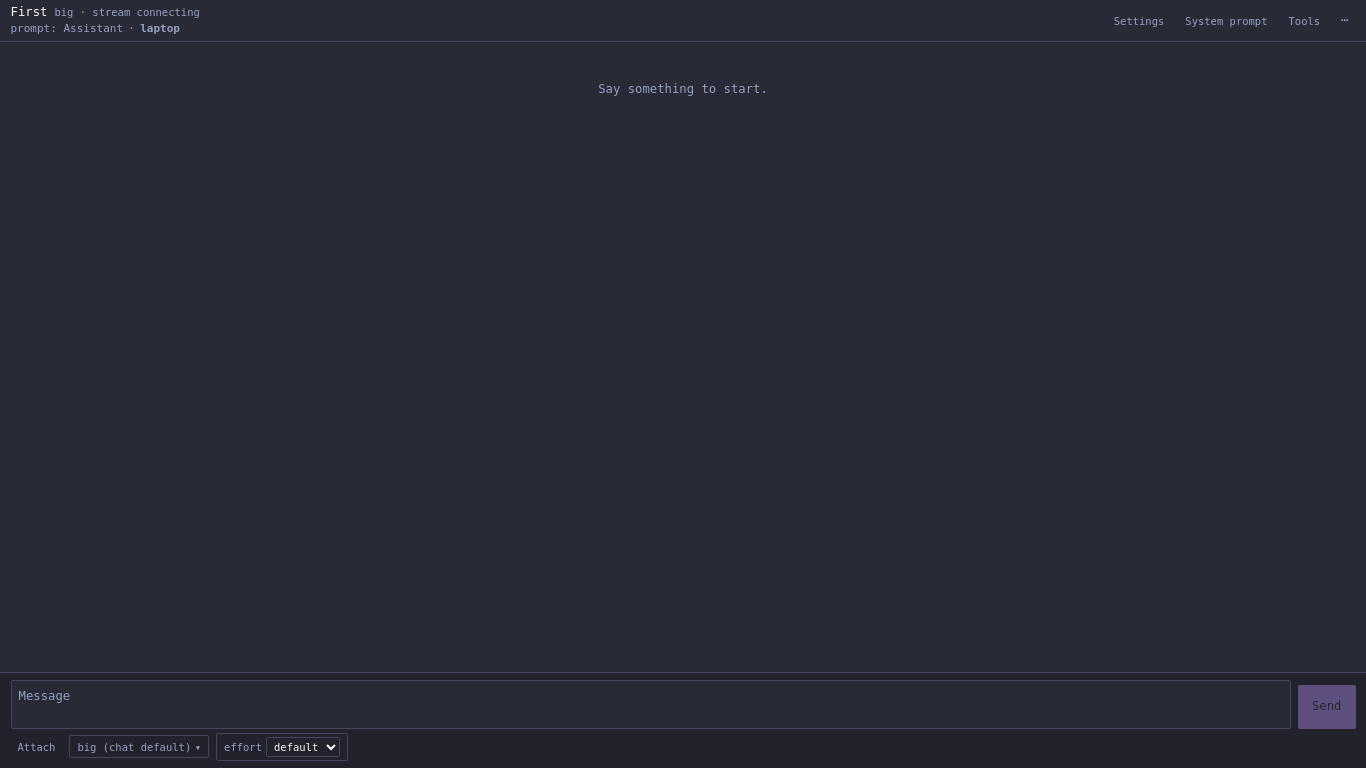
Tools panel and header › shows prompt and client chips and lists tools grouped by origin
Expected: the text "laptop" is shown, x1=140 y1=21 x2=180 y2=38
Expected: the text "prompt: Assistant" is shown, x1=10 y1=21 x2=123 y2=38
Click the button "Tools". click: (1304, 21)
box: x1=1282 y1=10 x2=1327 y2=31
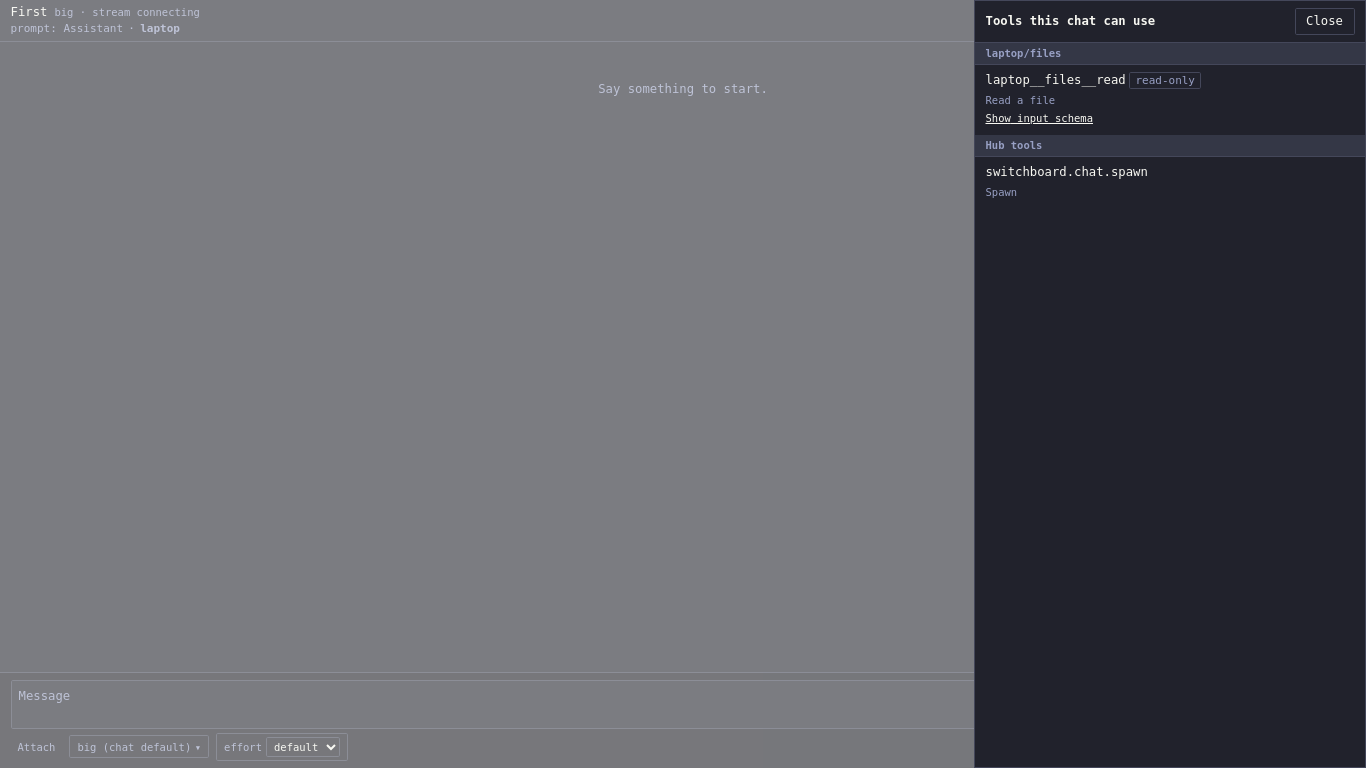
Now the text "laptop__files__read" is shown, box x1=986 y1=72 x2=1126 y2=89
Now the heading "laptop/files" is shown, box x1=975 y1=42 x2=1365 y2=64
Now the heading "Hub tools" is shown, box x1=975 y1=134 x2=1365 y2=156
Click the button "Show input schema". click: (1039, 118)
box: x1=986 y1=110 x2=1093 y2=124
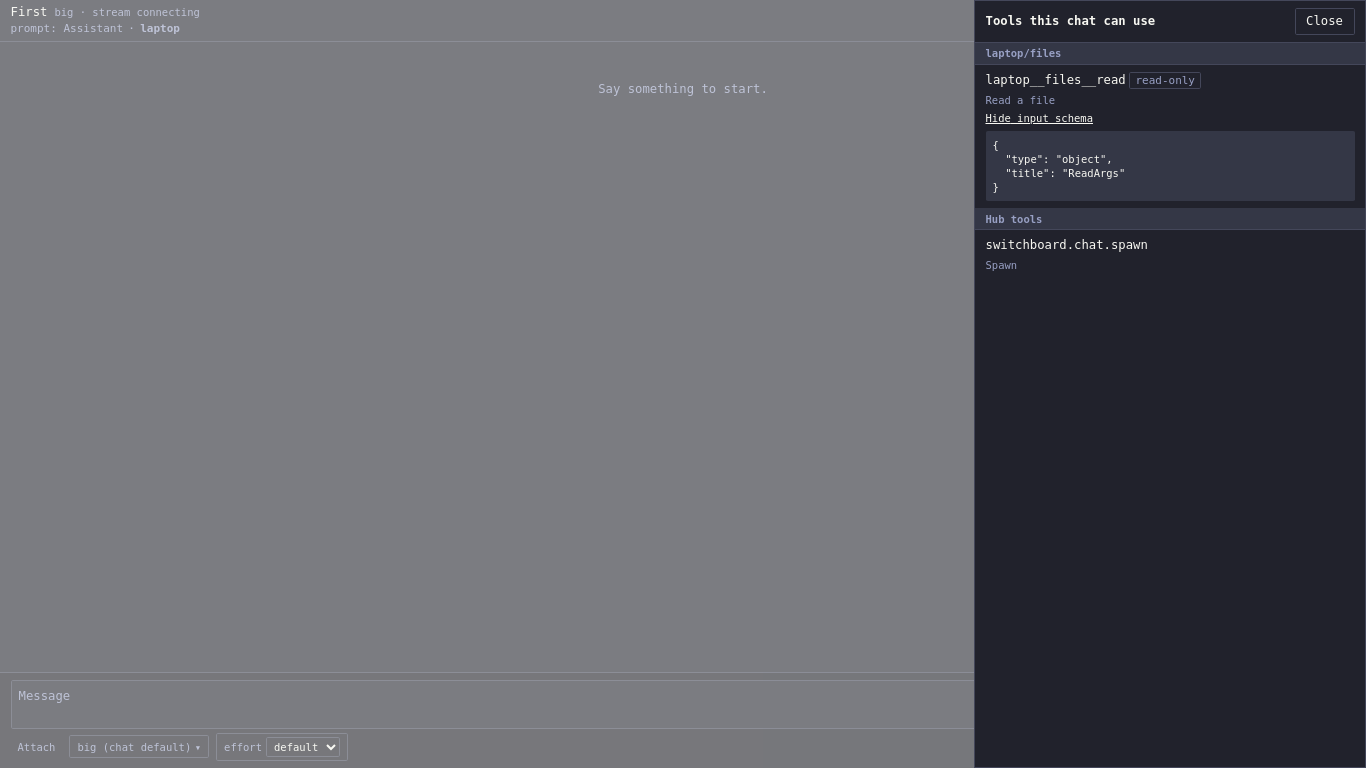
Now the text "{ \"type\": \"object\", \"title\": \"ReadArgs\" }" is shown, box x1=986 y1=131 x2=1354 y2=201
